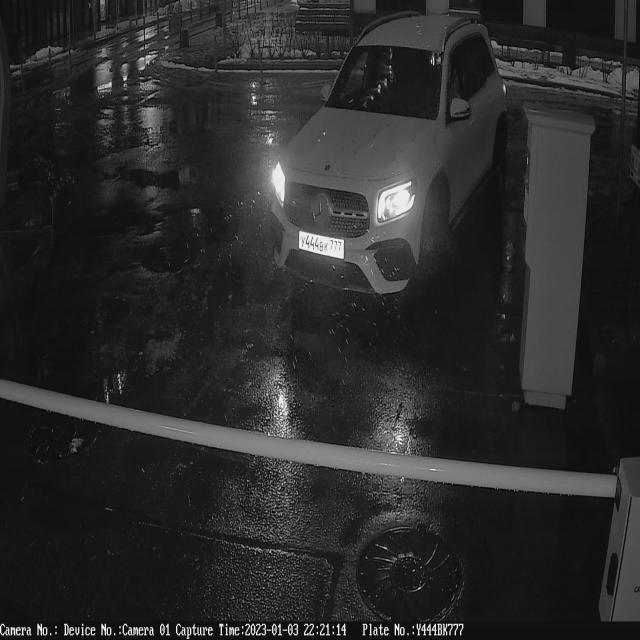car-plate-numbers: (297, 228, 348, 262)
